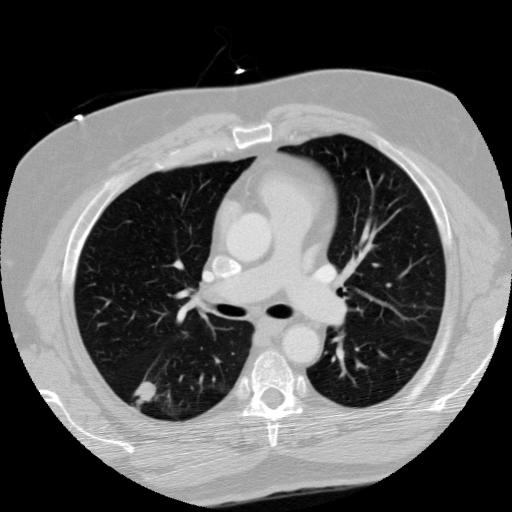nodule: (131, 378, 158, 405)
